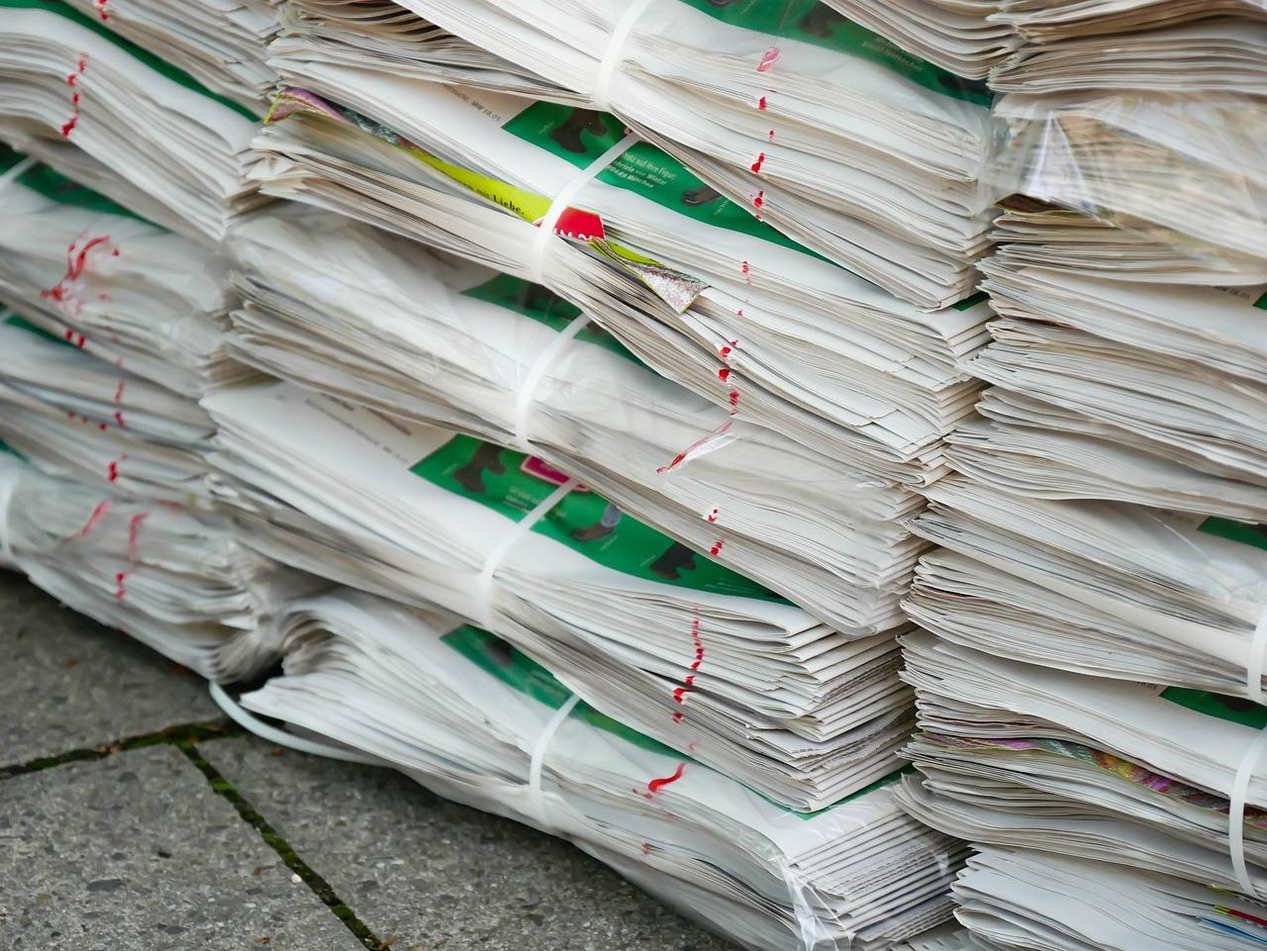Paper: (265, 3, 938, 951), (936, 5, 1267, 951), (0, 5, 253, 678)
